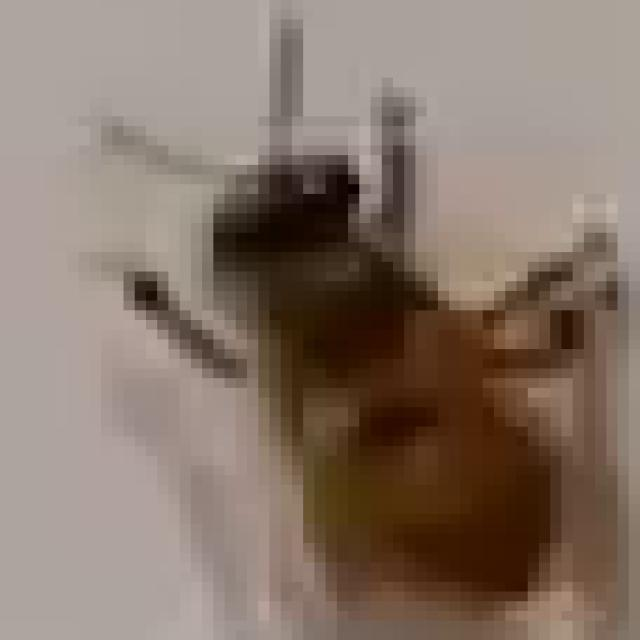honeybee: (137, 89, 640, 640)
